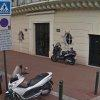Motorcycle: (0, 62, 60, 100)
